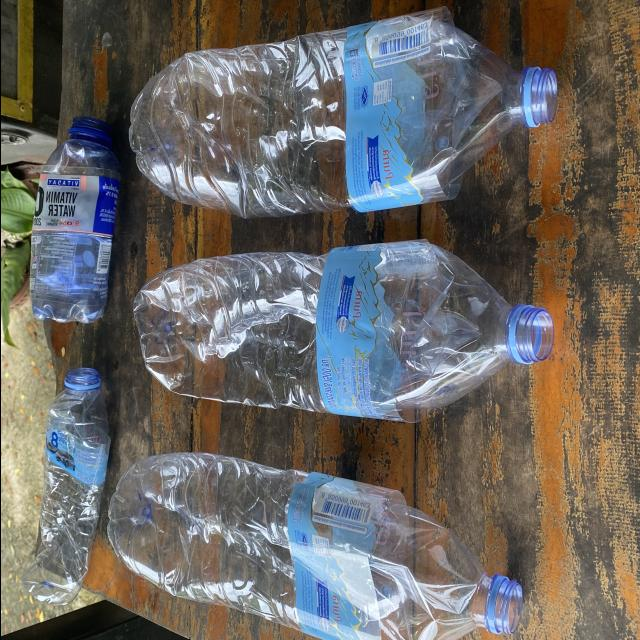plastik: (129, 7, 556, 218), (106, 453, 521, 640), (133, 240, 552, 422), (21, 368, 110, 605), (30, 117, 119, 323)
